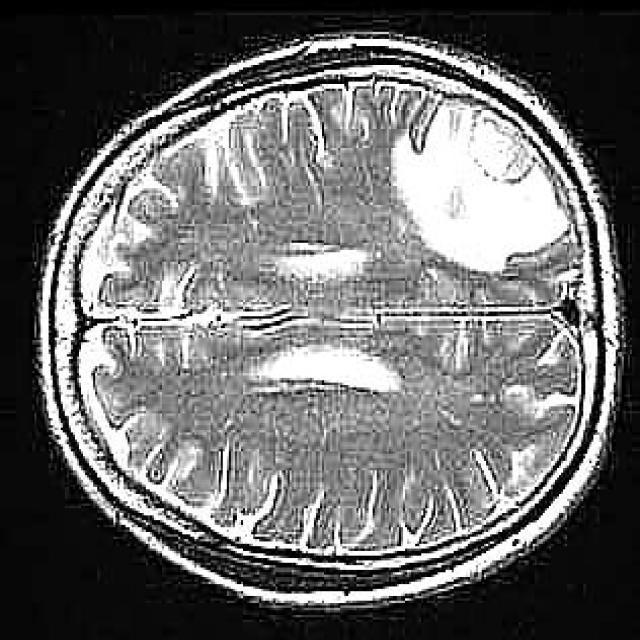tumor: (393, 95, 577, 277)
